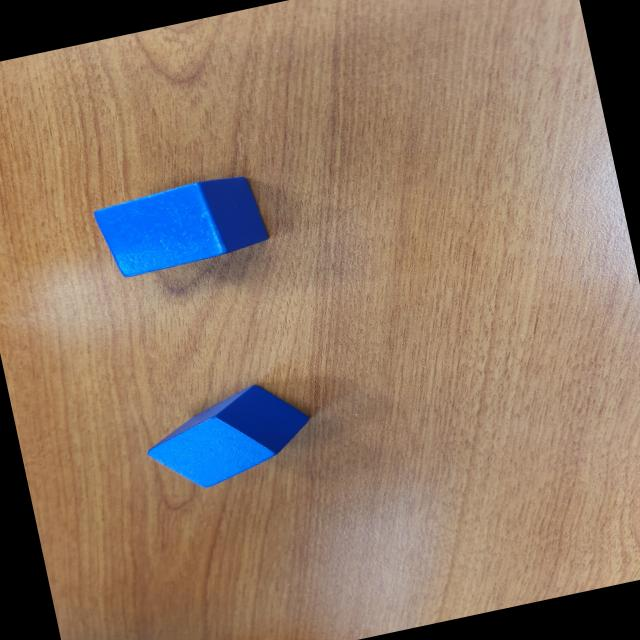blue: (136, 374, 320, 499), (90, 169, 274, 282)
